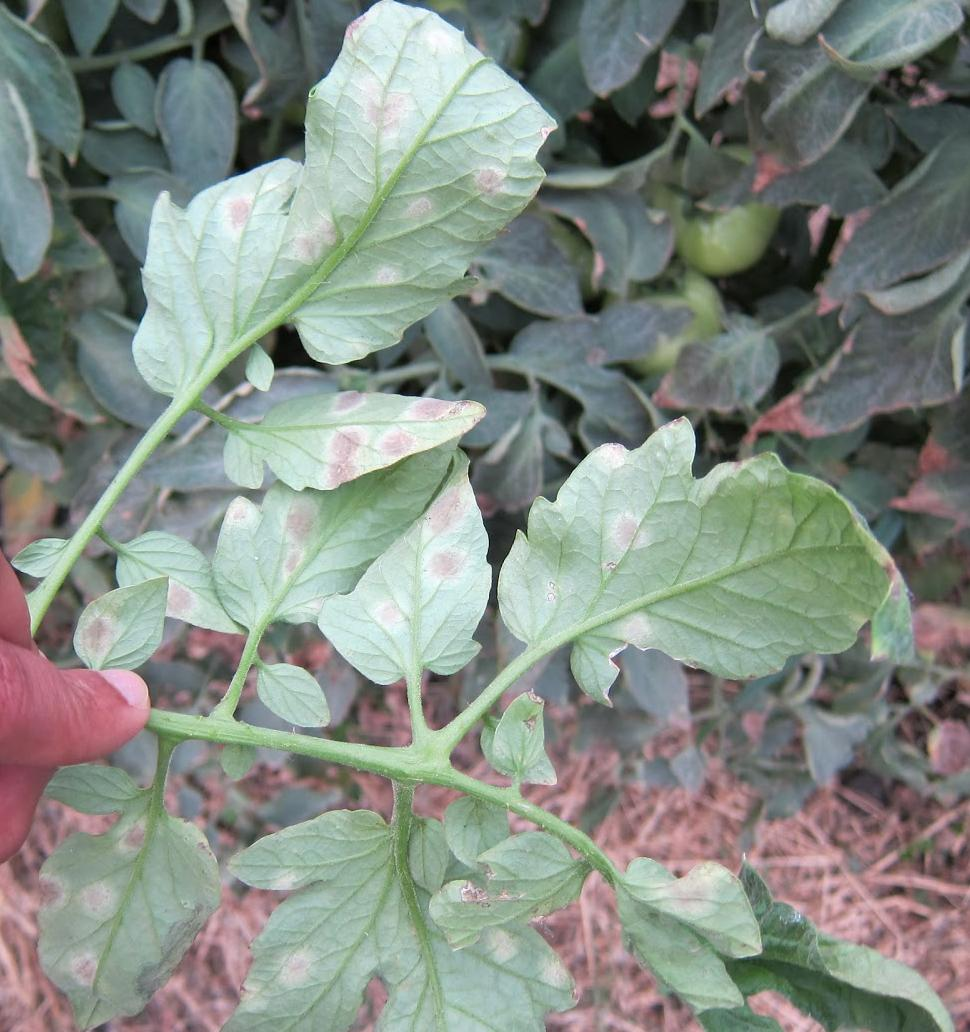Tomato mold leaf: (144, 0, 562, 404), (496, 415, 970, 692), (214, 814, 566, 1032), (616, 847, 970, 1032), (208, 423, 463, 641), (32, 764, 232, 1032), (303, 443, 505, 693), (197, 359, 500, 486), (436, 822, 596, 956), (67, 551, 191, 672)
